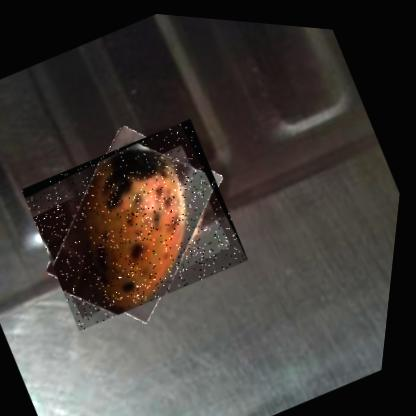mango_rotten: (13, 103, 264, 341)
